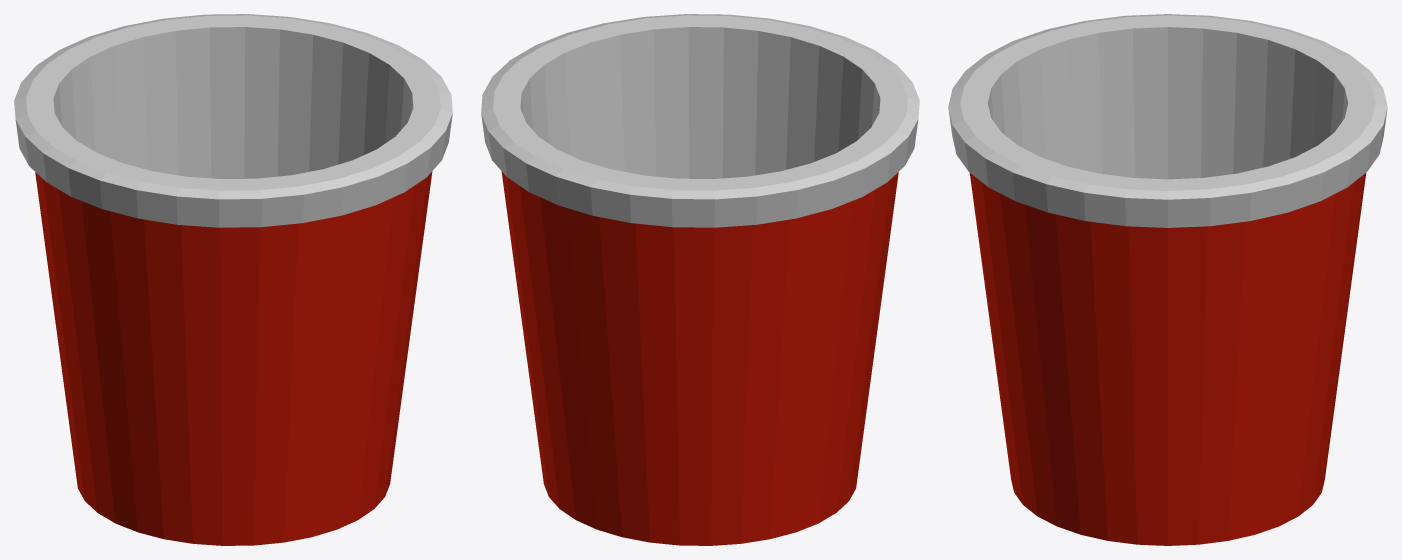
The model's file is Plastic Cup.fbx.
3 views of the same model, side by side, from view 1: azimuth 30°, elevation 25°; view 2: azimuth 150°, elevation 25°; view 3: azimuth 270°, elevation 25° (orthographic).
Visible parts, largest first — view 1: Cylinder; view 2: Cylinder; view 3: Cylinder.
Boxes of the visible parts, x1=… form: Cylinder: x1=14, y1=14, x2=452, y2=545; Cylinder: x1=481, y1=14, x2=919, y2=545; Cylinder: x1=948, y1=14, x2=1387, y2=545.
Bounding box in the file's own units: 212 × 212 × 200.
